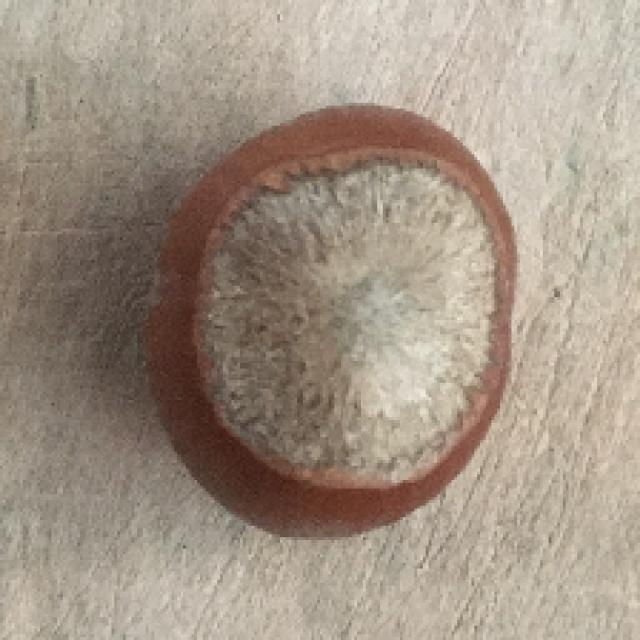qualityHazelnut: (143, 92, 523, 546)
